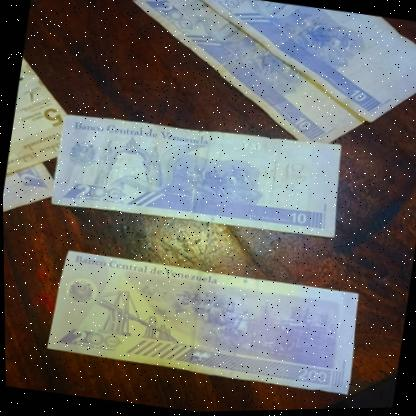five-front-vef: (3, 57, 97, 187)
ten-back-vef: (112, 0, 406, 156), (46, 102, 349, 249), (138, 0, 416, 139), (2, 152, 61, 225)
two_hundred-back-vef: (43, 243, 364, 401)
